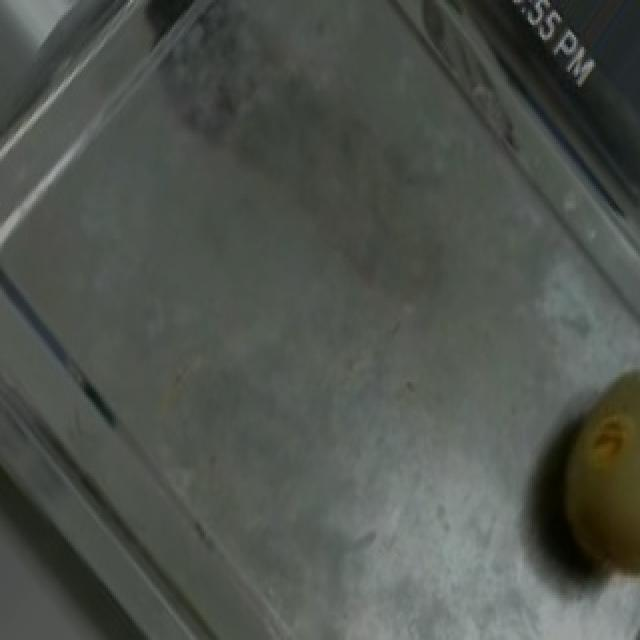Fruit: (508, 342, 640, 616)
